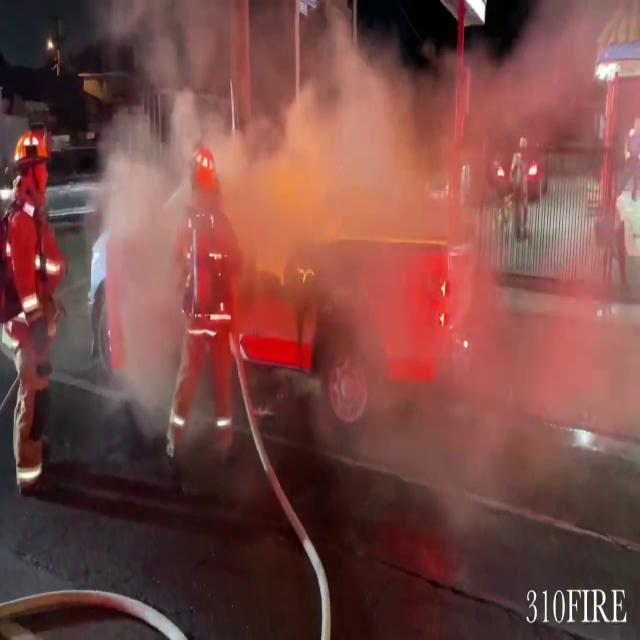Smoke: (70, 1, 620, 401)
